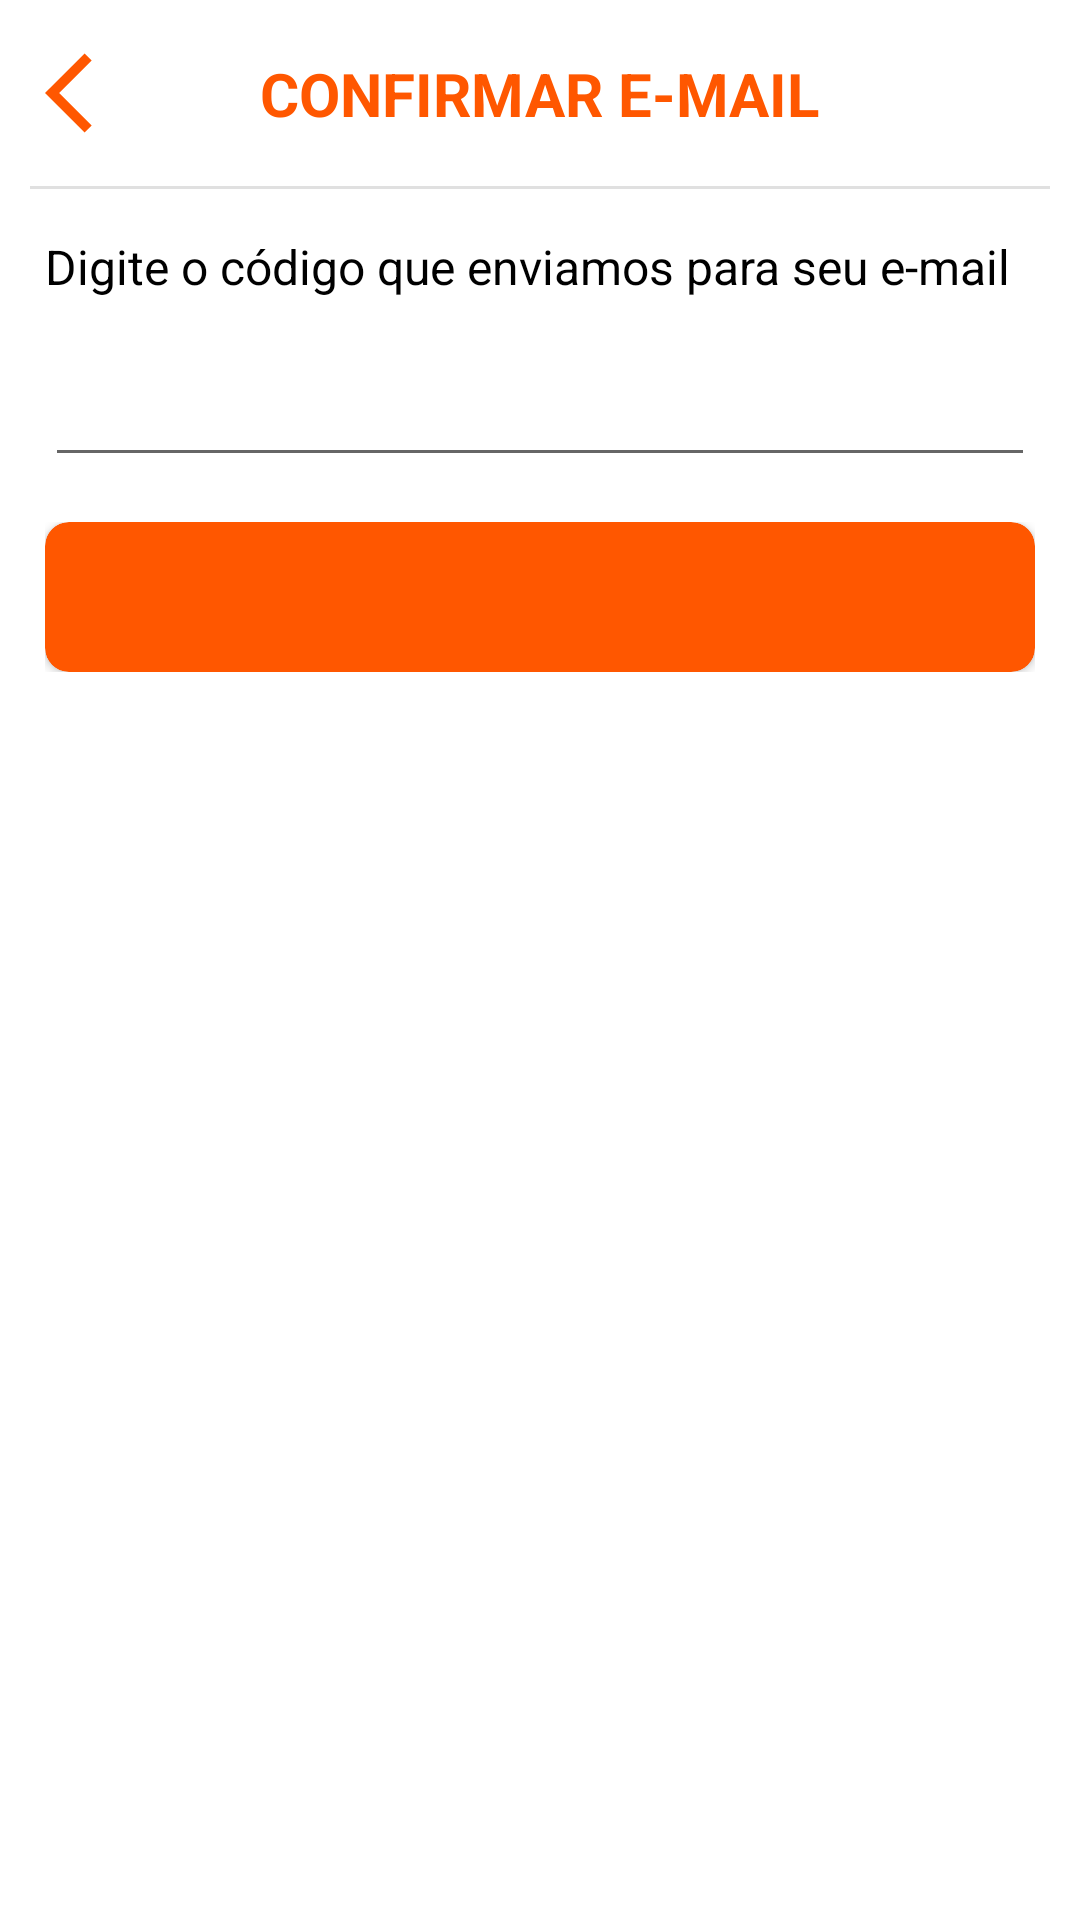

Where to tap for icons on this 1080 × 1920 app screen, as (x,y):
back: (68,93)
